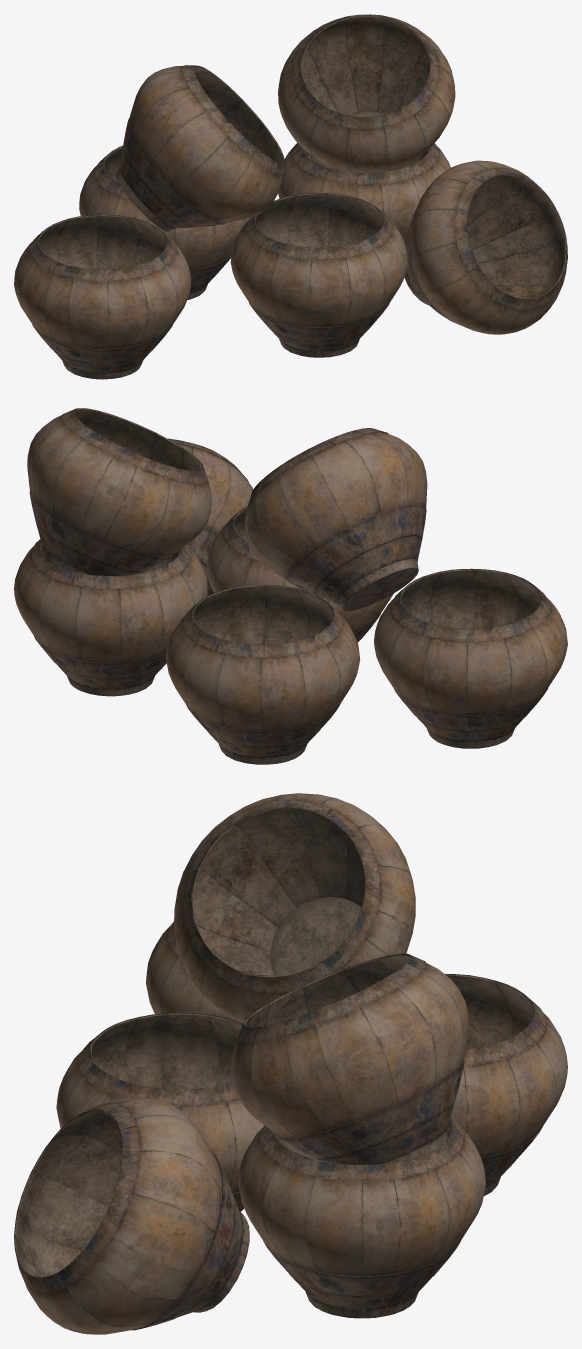
File: xi_dsp_metal_pot.gltf
3 views of the same model, one above another, from view 1: azimuth 30°, elevation 25°; view 2: azimuth 150°, elevation 25°; view 3: azimuth 270°, elevation 25° (orthographic). The views are drawn at different scales.
Visible parts, largest first — view 1: xi_dsp_metal_pot; view 2: xi_dsp_metal_pot; view 3: xi_dsp_metal_pot.
Part boxes in pixels (box(x1,y1,x2,y2)): xi_dsp_metal_pot: box(14, 14, 567, 379); xi_dsp_metal_pot: box(14, 408, 567, 764); xi_dsp_metal_pot: box(14, 793, 567, 1334).
Size of the model in its own units: 3.36 by 1.7 by 2.39.
Materials: 1 (1 with a texture image).
